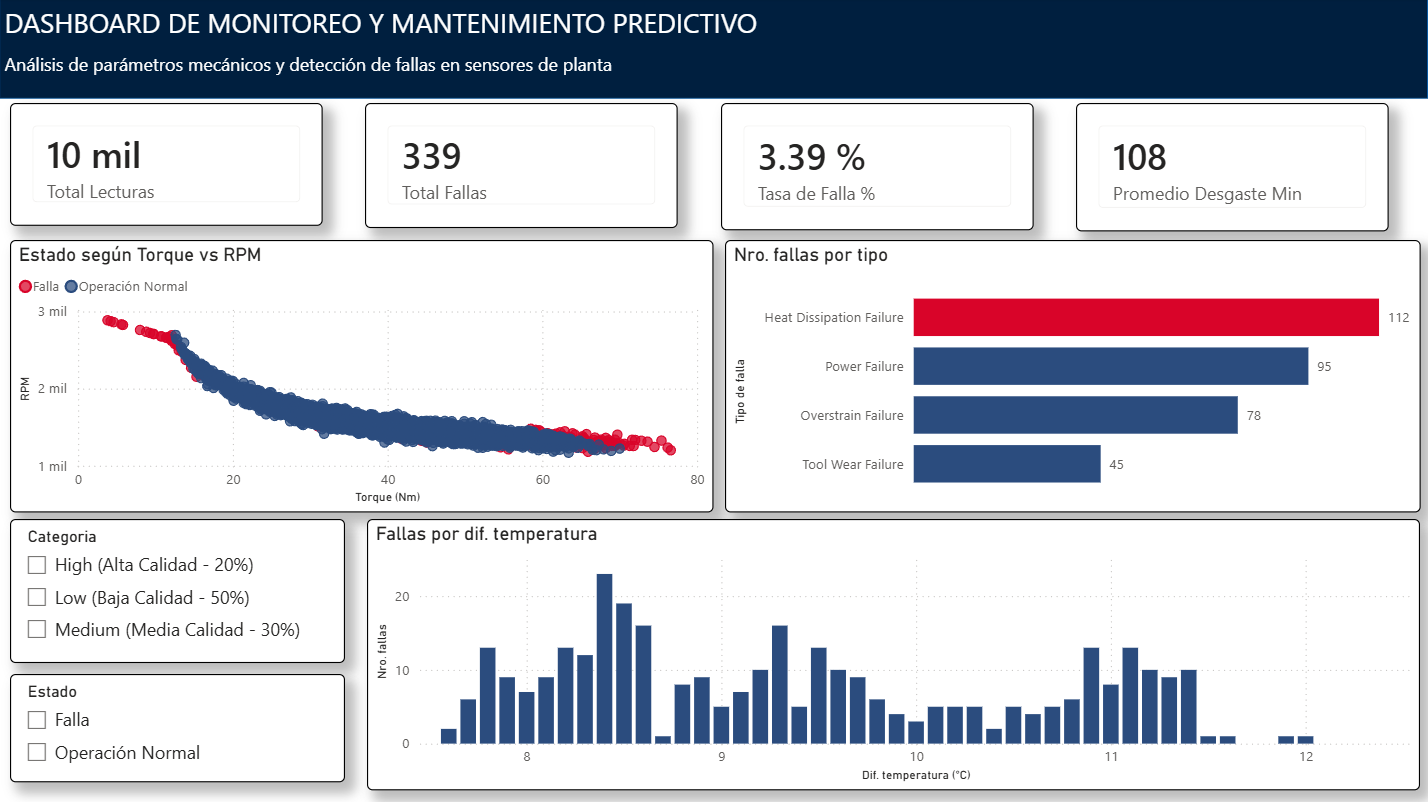

The page's visual inventory and layout, read from the dashboard file:
{"tool":"powerbi","page":{"name":"Página 1","canvas":[1280,720],"ordinal":0},"visuals":[{"type":"shape","box":[0,0,1280,90.5],"z":0},{"type":"cardVisual","fields":{"Data":["mantenimiento_predictivo vw_lecturas_procesadas.Total Lecturas"]},"box":[9.7,94.3,280.1,109.9],"z":1000},{"type":"cardVisual","fields":{"Data":["mantenimiento_predictivo vw_lecturas_procesadas.Total Fallas"]},"box":[327.8,94.3,280.1,111.9],"z":2000},{"type":"cardVisual","fields":{"Data":["mantenimiento_predictivo vw_lecturas_procesadas.Tasa de Falla %"]},"box":[646.8,94.3,280.1,113.8],"z":3000},{"type":"cardVisual","fields":{"Data":["mantenimiento_predictivo vw_lecturas_procesadas.Promedio Desgaste Min"]},"box":[964.9,94.3,280.1,114.8],"z":4000},{"type":"scatterChart","title":"Estado según Torque vs RPM","fields":{"X":["mantenimiento_predictivo vw_lecturas_procesadas.Torque_Nm"],"Y":["mantenimiento_predictivo vw_lecturas_procesadas.Rotational_speed_rpm"],"Series":["mantenimiento_predictivo vw_lecturas_procesadas.Estado_Falla_Label"]},"box":[9.7,216.9,630.3,244.1],"z":5000},{"type":"barChart","title":"Nro. fallas por tipo","fields":{"Category":["mantenimiento_predictivo vw_lecturas_procesadas.Tipo_Falla"],"Y":["mantenimiento_predictivo vw_lecturas_procesadas.Total Fallas"]},"box":[649.7,216.9,623.5,244.1],"z":6000},{"type":"slicer","fields":{"Values":["mantenimiento_predictivo vw_lecturas_procesadas.Categoria_Producto"]},"box":[9.7,466.9,299.6,129.4],"z":7000},{"type":"slicer","fields":{"Values":["mantenimiento_predictivo vw_lecturas_procesadas.Estado_Falla_Label"]},"box":[9.7,605,299.6,97.3],"z":8000},{"type":"clusteredColumnChart","title":"Fallas por dif. temperatura","fields":{"Category":["mantenimiento_predictivo vw_lecturas_procesadas.Dif_Temperatura_C"],"Y":["mantenimiento_predictivo vw_lecturas_procesadas.Total Fallas"]},"box":[329.7,466.9,943.5,243.2],"z":9000},{"type":"textbox","box":[0,0,716.8,42.8],"z":11000},{"type":"textbox","box":[0,42.8,716.8,37],"z":11501}]}

Visuals, with their boxes in screenshot pixels (x1, y1, x2, y2), scaled from the page's 1280x720 canvas onto the 1428x802 screenshot:
shape: 0/0/1427/101
cardVisual - mantenimiento_predictivo vw_lecturas_procesadas.Total Lecturas: 11/105/323/227
cardVisual - mantenimiento_predictivo vw_lecturas_procesadas.Total Fallas: 366/105/678/230
cardVisual - mantenimiento_predictivo vw_lecturas_procesadas.Tasa de Falla %: 722/105/1034/232
cardVisual - mantenimiento_predictivo vw_lecturas_procesadas.Promedio Desgaste Min: 1076/105/1389/233
"Estado según Torque vs RPM" scatterChart: 11/242/714/514
"Nro. fallas por tipo" barChart: 725/242/1420/514
slicer - mantenimiento_predictivo vw_lecturas_procesadas.Categoria_Producto: 11/520/345/664
slicer - mantenimiento_predictivo vw_lecturas_procesadas.Estado_Falla_Label: 11/674/345/782
"Fallas por dif. temperatura" clusteredColumnChart: 368/520/1420/791
textbox: 0/0/800/48
textbox: 0/48/800/89
